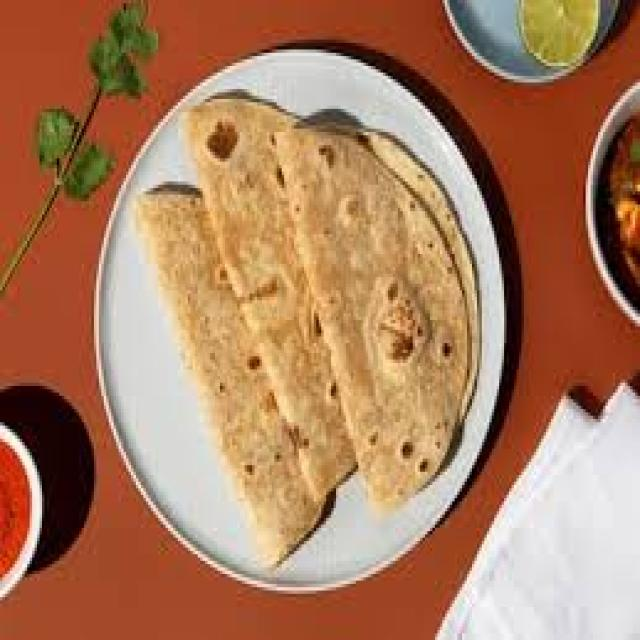ROTI: (274, 108, 481, 516), (138, 191, 333, 569), (182, 97, 356, 491)
